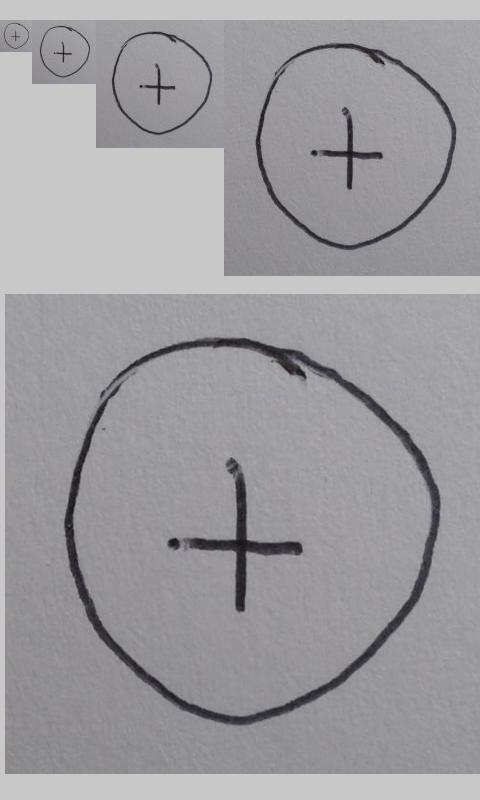button: (64, 337, 442, 726), (255, 42, 457, 250), (110, 30, 214, 135), (40, 26, 90, 78), (3, 23, 29, 49)
